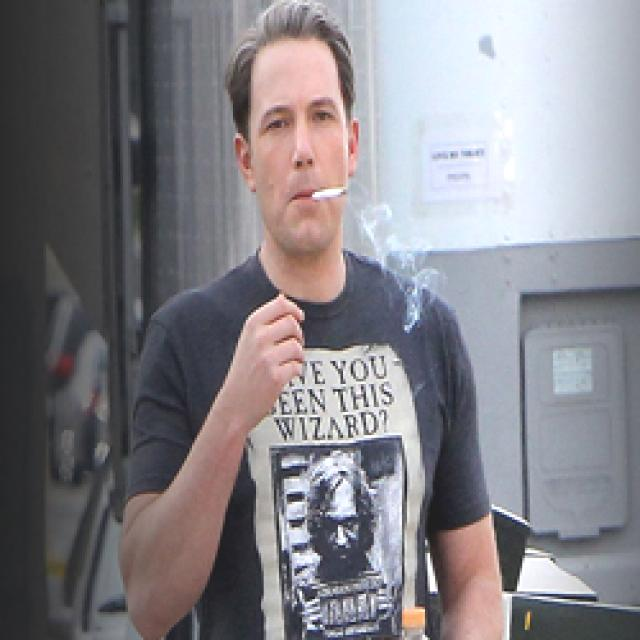Smooking: (296, 181, 362, 205)
